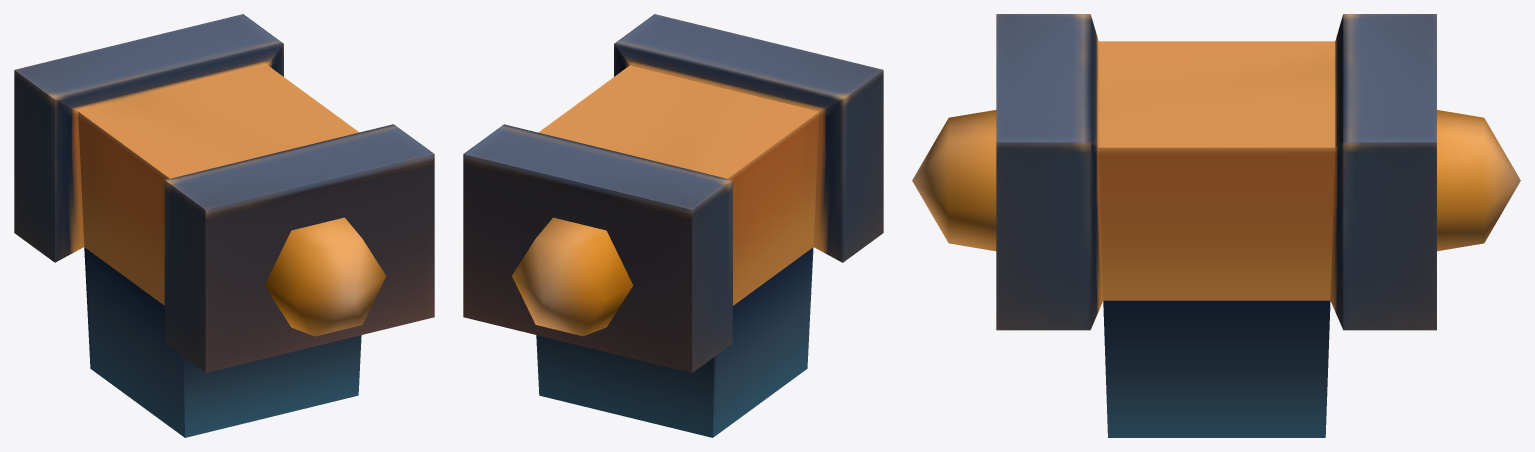
3 renders of one model, left to right at view 1: azimuth 30°, elevation 25°; view 2: azimuth 150°, elevation 25°; view 3: azimuth 270°, elevation 25°, orthographic. The views are drawn at different scales.
Parts seen in each view (by area): view 1: ZT; view 2: ZT; view 3: ZT.
Part boxes in pixels (box(x1,y1,x2,y2)): ZT: box(14, 14, 434, 437); ZT: box(463, 14, 883, 437); ZT: box(912, 14, 1520, 437).
Size of the model in its own units: 0.0939 by 0.1059 by 0.1879.
1 material, 1 textured.
